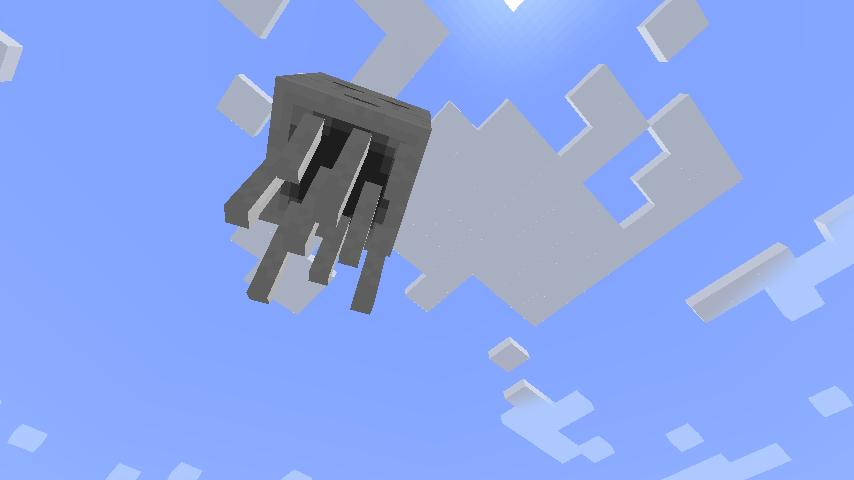ghast: (217, 66, 434, 320)
